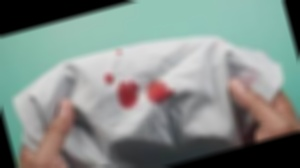blood: (114, 78, 143, 110), (143, 77, 175, 105), (104, 72, 115, 85)
